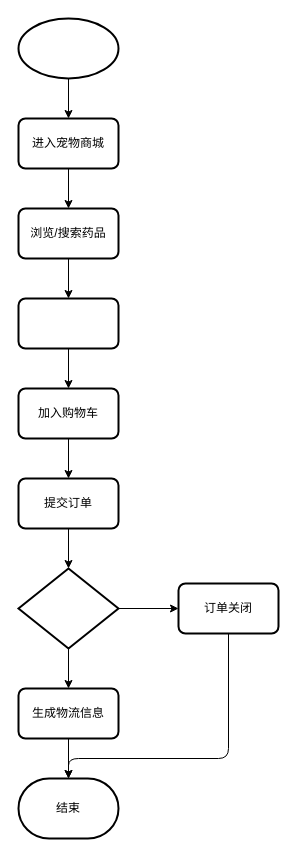
This 296x856 diagram has some shape labels left out. Each missing label, with the centre of its shape:
"完成支付" goes at (68,608).
"开始" goes at (68,48).
"查看药品详情" goes at (68,323).
